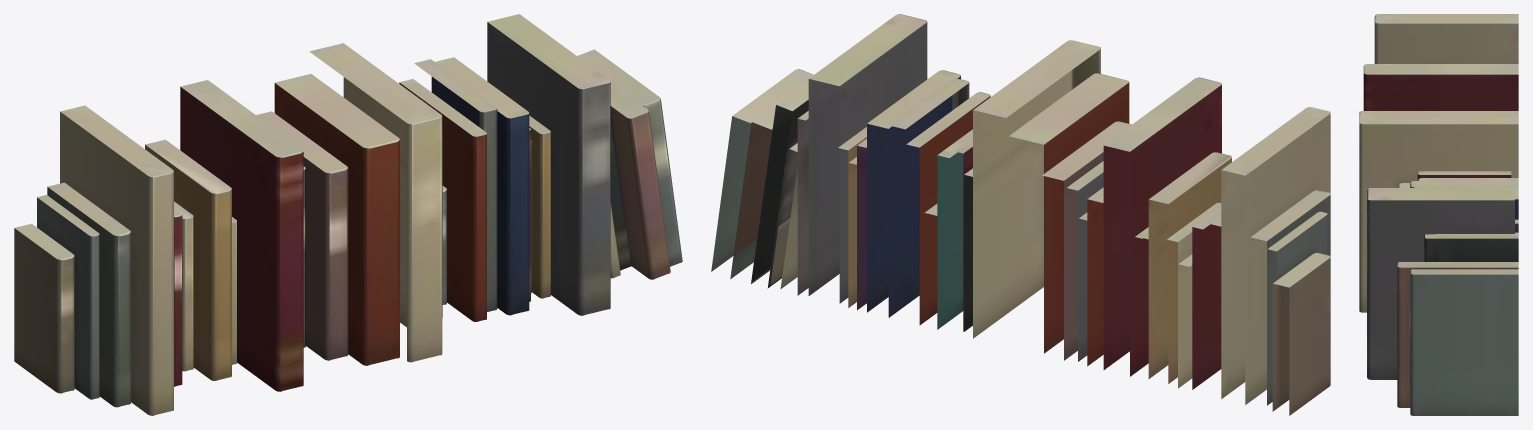
File: book-row-90.glb
3 renders of one model, left to right at view 1: azimuth 30°, elevation 25°; view 2: azimuth 150°, elevation 25°; view 3: azimuth 270°, elevation 25°, orthographic. The views are drawn at different scales.
Visible parts, largest first — view 1: row_left; view 2: row_left; view 3: row_left.
Boxes of the visible parts, x1,y1,x2,y2 form: row_left: (14,14,682,415); row_left: (711,14,1330,415); row_left: (1359,14,1518,415).
Bounding box in the file's own units: 0.8757 × 0.3319 × 0.2538.
Materials: 1 (1 with a texture image).
